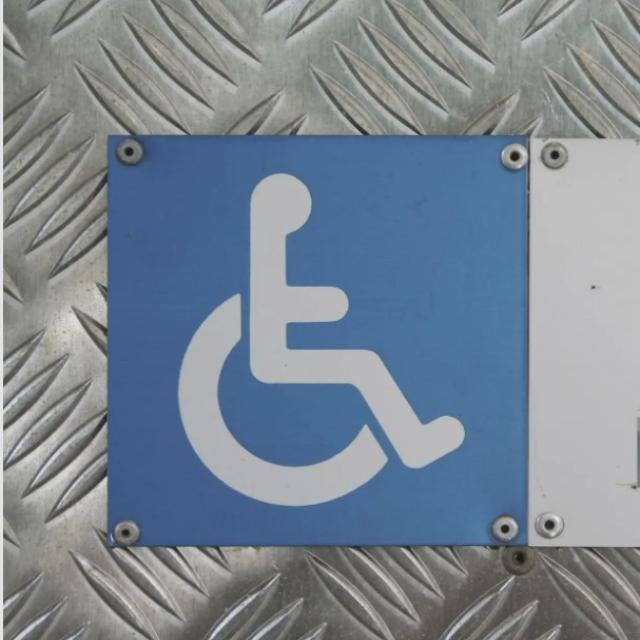symbol_of_access: (100, 129, 533, 554)
